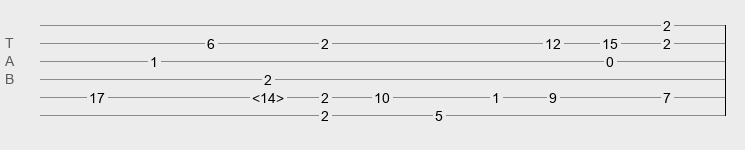0: (606, 54, 614, 64)
1: (150, 54, 158, 64), (492, 90, 500, 100)
10: (374, 90, 390, 100)
12: (545, 36, 561, 46)
15: (602, 36, 618, 46)
17: (89, 90, 105, 100)
2: (264, 72, 272, 82), (321, 36, 329, 46), (321, 90, 329, 100), (321, 108, 329, 118), (663, 36, 671, 46), (663, 18, 671, 28)
5: (435, 108, 443, 118)
6: (207, 36, 215, 46)
7: (663, 90, 671, 100)
9: (549, 90, 557, 100)
harmonic: (252, 90, 284, 100)
